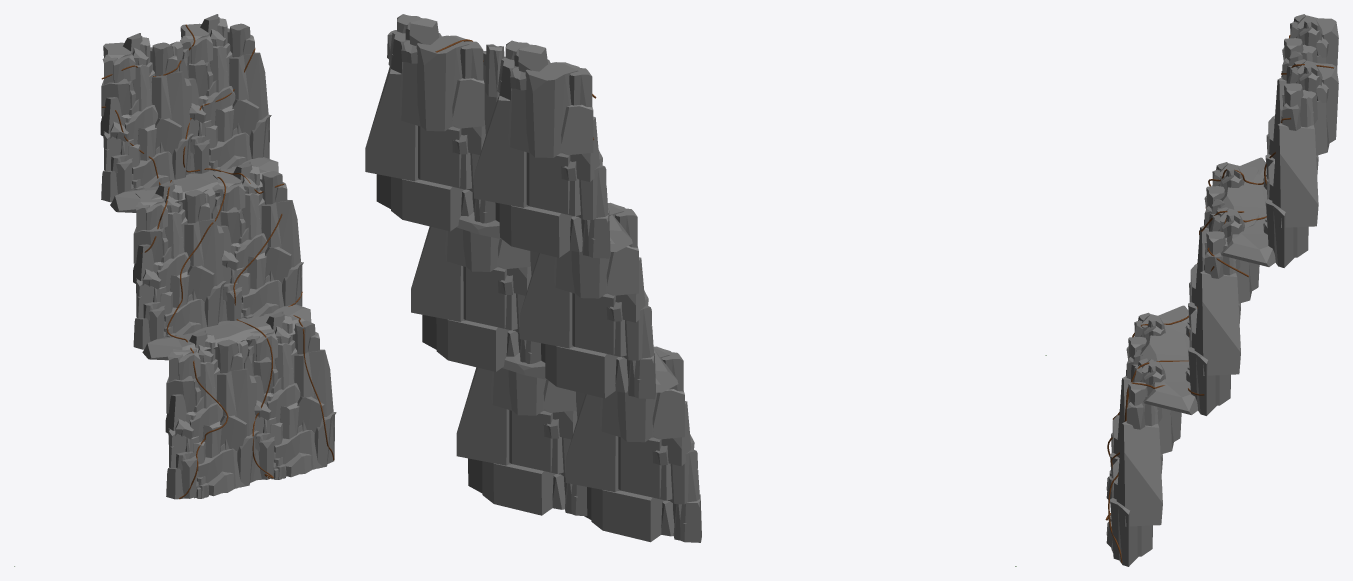
The model's file is montanha test.fbx.
The picture shows the model from 3 angles, left to right: view 1: azimuth 30°, elevation 25°; view 2: azimuth 150°, elevation 25°; view 3: azimuth 270°, elevation 25°; orthographic projection. The views are drawn at different scales.
Visible parts, largest first — view 1: Cliff_07.003, BézierCurve; view 2: Cliff_07.003; view 3: Cliff_07.003, BézierCurve.
Boxes of the visible parts, left/top/right/bottom form: Cliff_07.003: left=100, top=14, right=336, bottom=499; BézierCurve: left=101, top=24, right=334, bottom=499; Cliff_07.003: left=365, top=14, right=701, bottom=542; Cliff_07.003: left=1106, top=14, right=1338, bottom=566; BézierCurve: left=1105, top=35, right=1333, bottom=563.
Bounding box in the file's own units: 5739 × 6114 × 3423.
